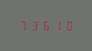one: (51, 20, 61, 31)
seven: (18, 20, 28, 31)
six: (40, 20, 50, 31)
three: (29, 20, 39, 31)
zero: (62, 20, 72, 31)
